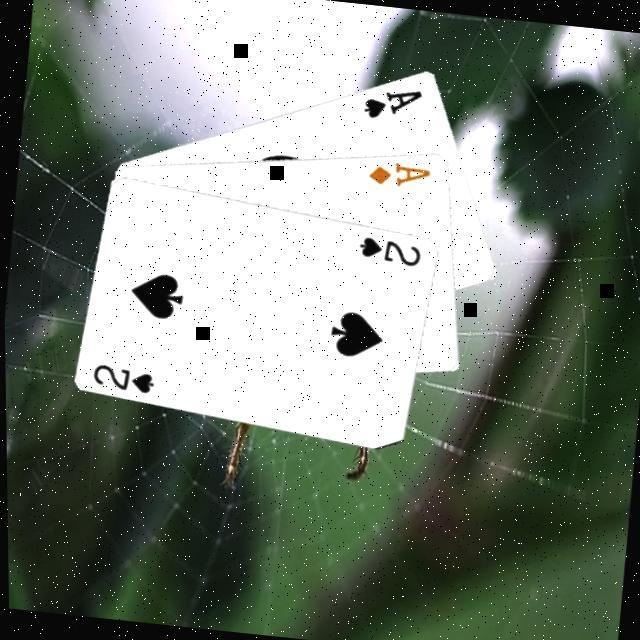2S: (351, 229, 422, 268), (85, 357, 156, 395)
AD: (361, 153, 432, 191)
AS: (356, 78, 425, 124)
